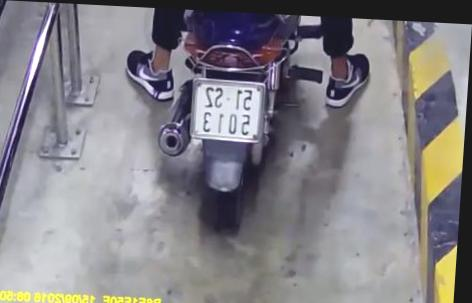License_Plate: (183, 77, 271, 145)
